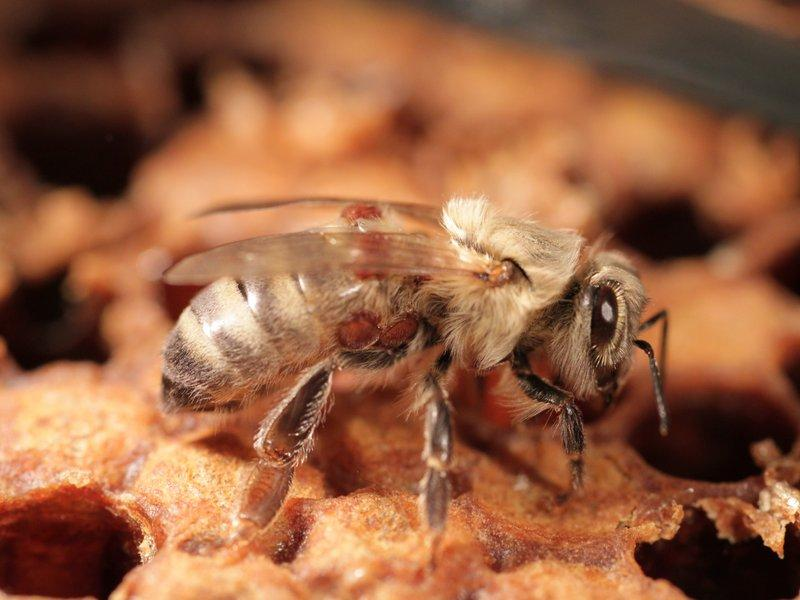worker-bee: (161, 198, 668, 539)
